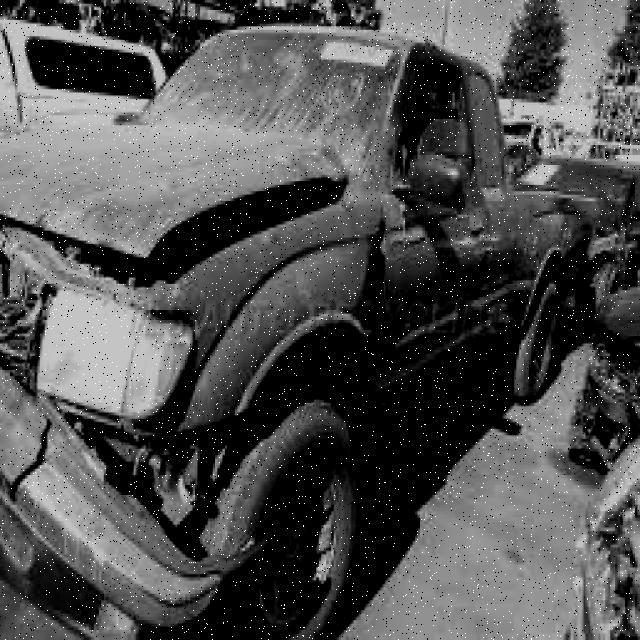car damage: (0, 167, 361, 640)
